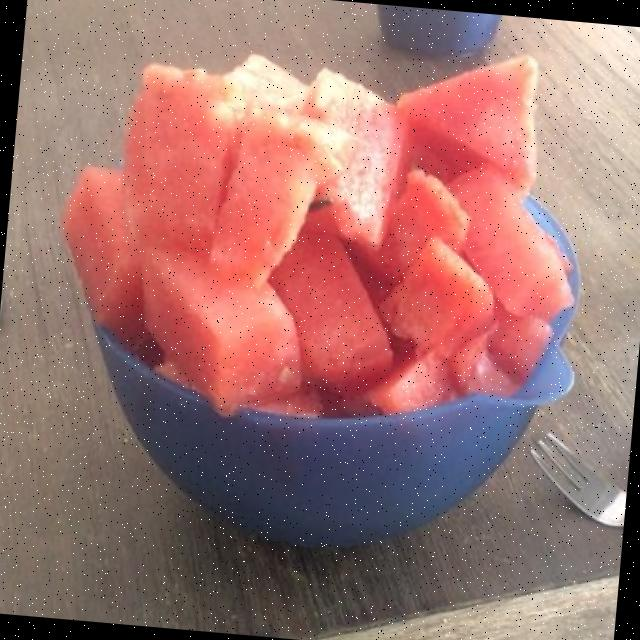watermelon-fresh: (112, 61, 568, 411)
